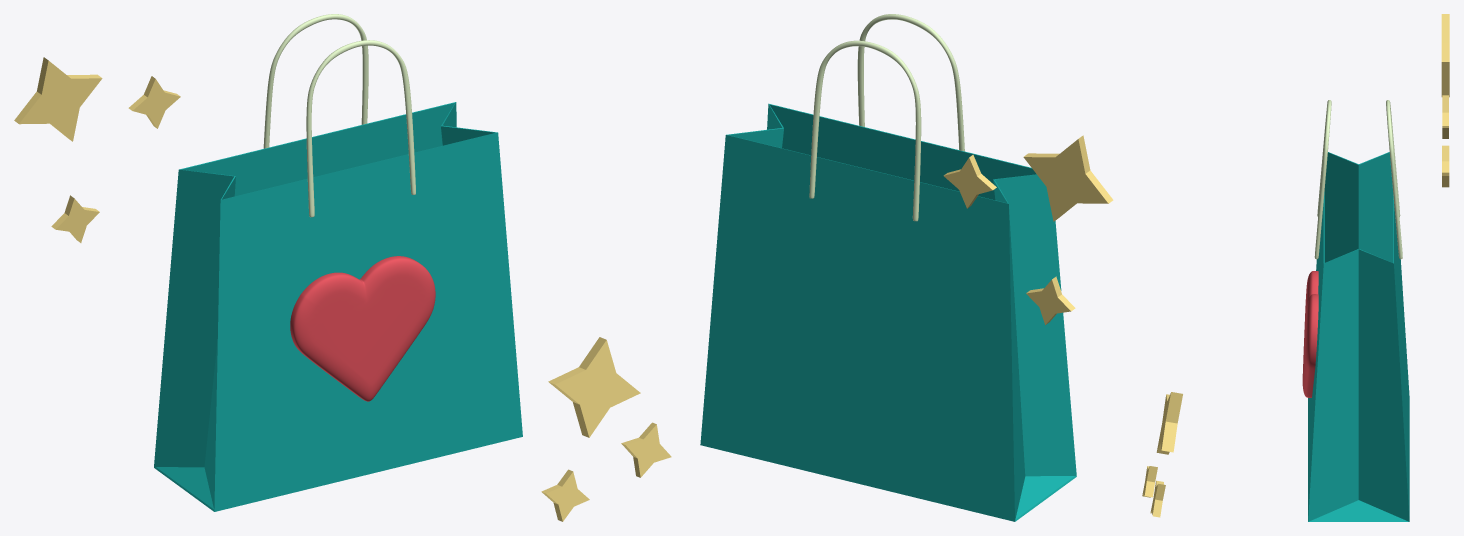
The model's file is shopping_bag.glb.
The picture shows the model from 3 angles, left to right: view 1: azimuth 30°, elevation 25°; view 2: azimuth 150°, elevation 25°; view 3: azimuth 270°, elevation 25°; orthographic projection. The views are drawn at different scales.
Parts seen in each view (by area): view 1: Cube, Cube.001, Plane, Star.003, Star, Star.004, Star.001, Star.005, Star.002; view 2: Cube, Plane, Star, Star.001, Star.002; view 3: Cube, Plane, Cube.001, Star.003, Star, Star.004.
Boxes of the visible parts, x1=… form: Cube: x1=154, y1=102, x2=522, y2=511; Cube.001: x1=290, y1=256, x2=435, y2=401; Plane: x1=263, y1=14, x2=415, y2=217; Star.003: x1=548, y1=337, x2=640, y2=437; Star: x1=14, y1=57, x2=102, y2=141; Star.004: x1=621, y1=422, x2=671, y2=477; Star.001: x1=128, y1=76, x2=180, y2=128; Star.005: x1=541, y1=469, x2=589, y2=521; Star.002: x1=51, y1=195, x2=99, y2=242; Cube: x1=700, y1=103, x2=1076, y2=521; Plane: x1=809, y1=14, x2=964, y2=221; Star: x1=1023, y1=135, x2=1113, y2=221; Star.001: x1=943, y1=155, x2=996, y2=208; Star.002: x1=1026, y1=276, x2=1075, y2=324; Cube: x1=1308, y1=152, x2=1409, y2=521; Plane: x1=1314, y1=100, x2=1402, y2=259; Cube.001: x1=1302, y1=271, x2=1318, y2=397; Star.003: x1=1156, y1=392, x2=1182, y2=454; Star: x1=1441, y1=14, x2=1449, y2=97; Star.004: x1=1150, y1=480, x2=1165, y2=517.
Size of the model in its own units: 5.68 by 4.78 by 3.76.
